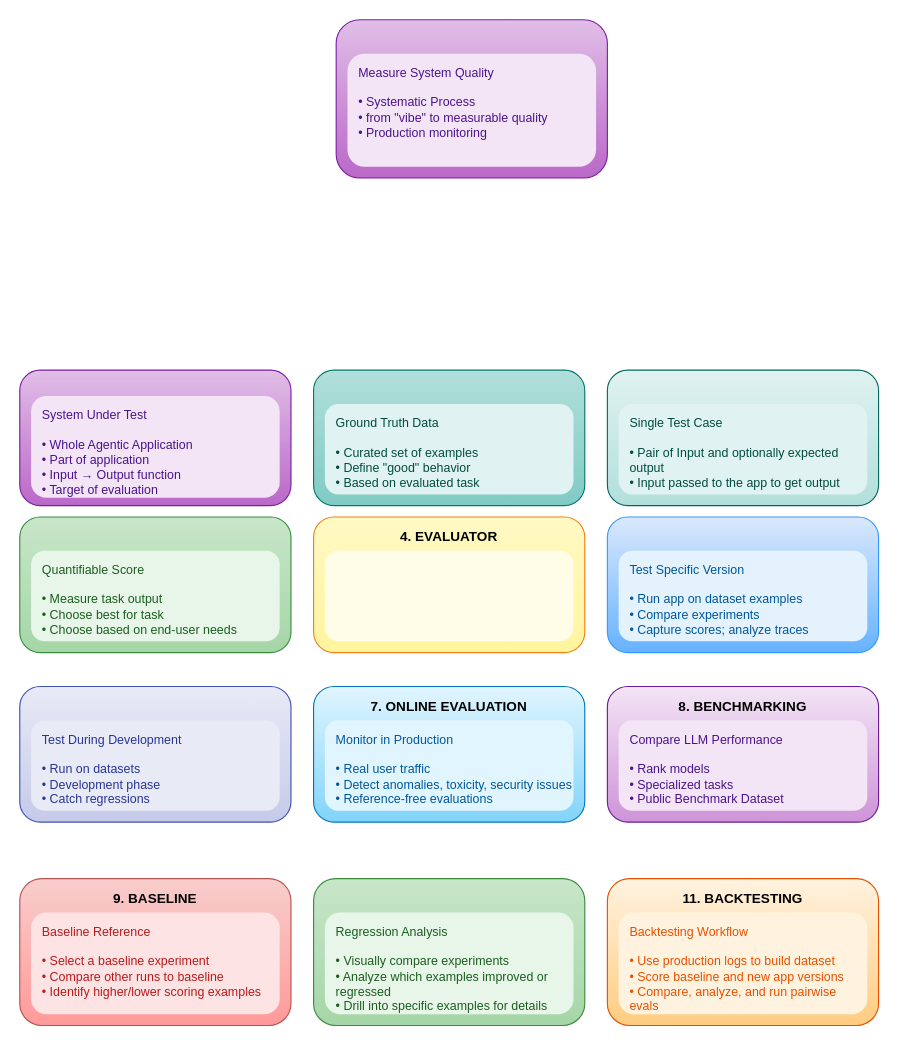
Image size: 898x1045. Some labels were removed from this diagram. The box of each missing label's shape, as (x1, y1, x2, y2) in pixels:
1. EVALUATION: (335, 19, 607, 178)
10. REGRESSION: (312, 877, 585, 1025)
12. EXAMPLE: (606, 369, 879, 506)
13. TASK: (19, 369, 291, 506)
2. EXPERIMENT: (606, 516, 879, 653)
3. GOLDEN DATASET: (312, 369, 585, 506)
5. METRIC: (19, 516, 291, 653)
6. OFFLINE EVALUATION: (19, 685, 291, 822)
Scoring Mechanism • LLM-as-a-Judge • Custom code/rules • Human review: (324, 550, 573, 641)
